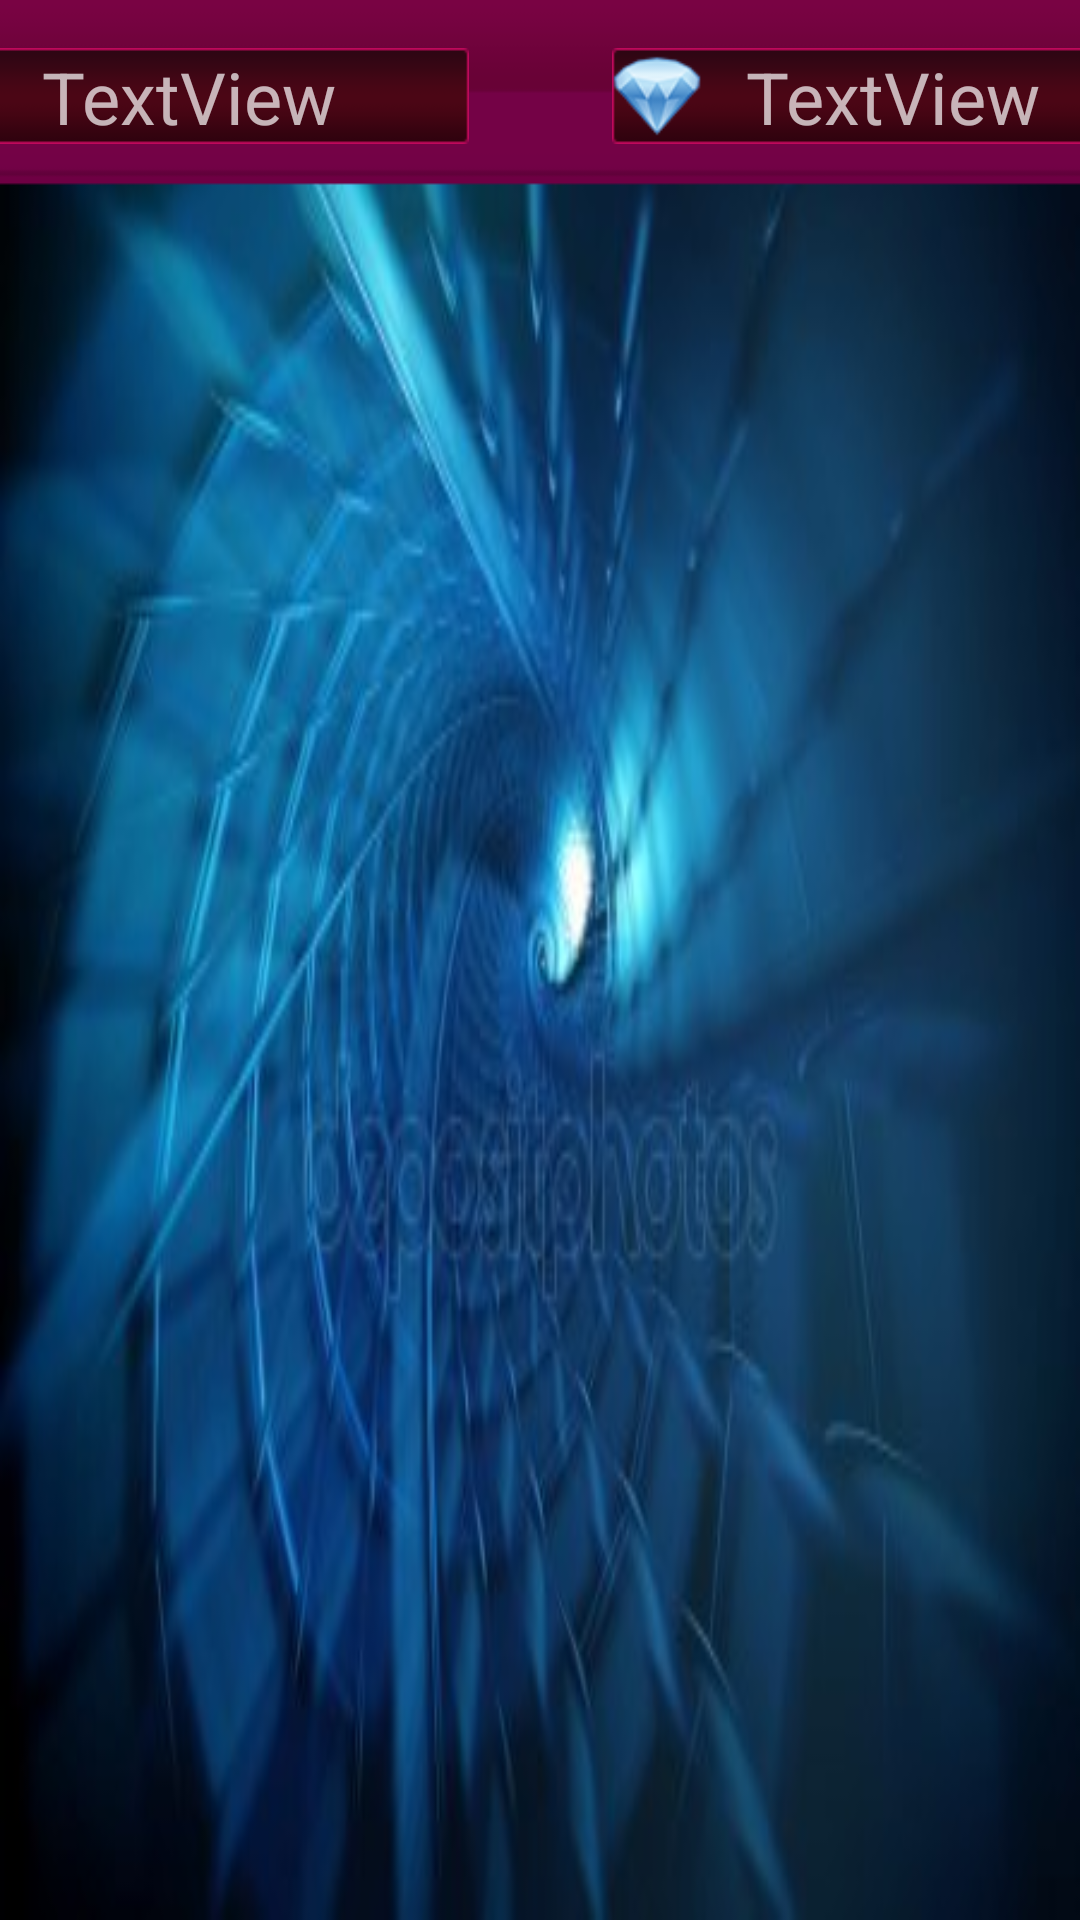

Screen size 1080px x 1920px. Icon name, then its box in pixels as (x1, y1, x2, y2):
diamond: (612, 48, 702, 144)
